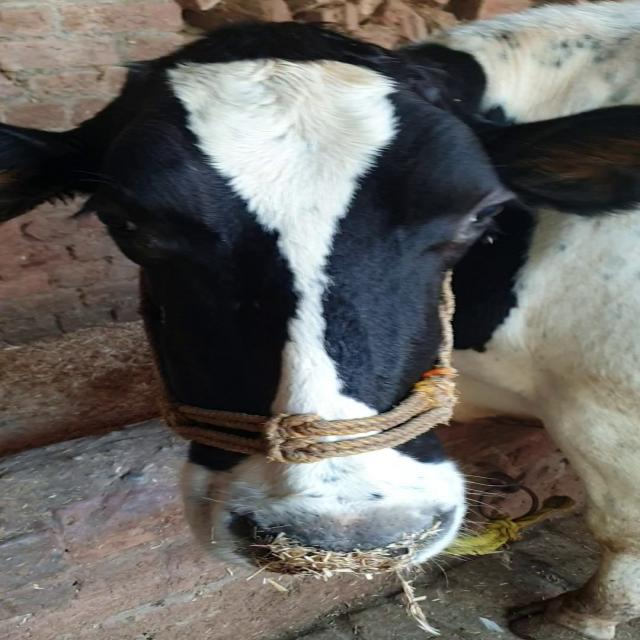cowFace: (88, 54, 530, 584)
